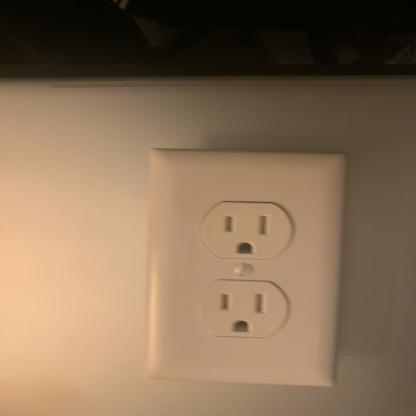OUTLET: (147, 154, 345, 382)
